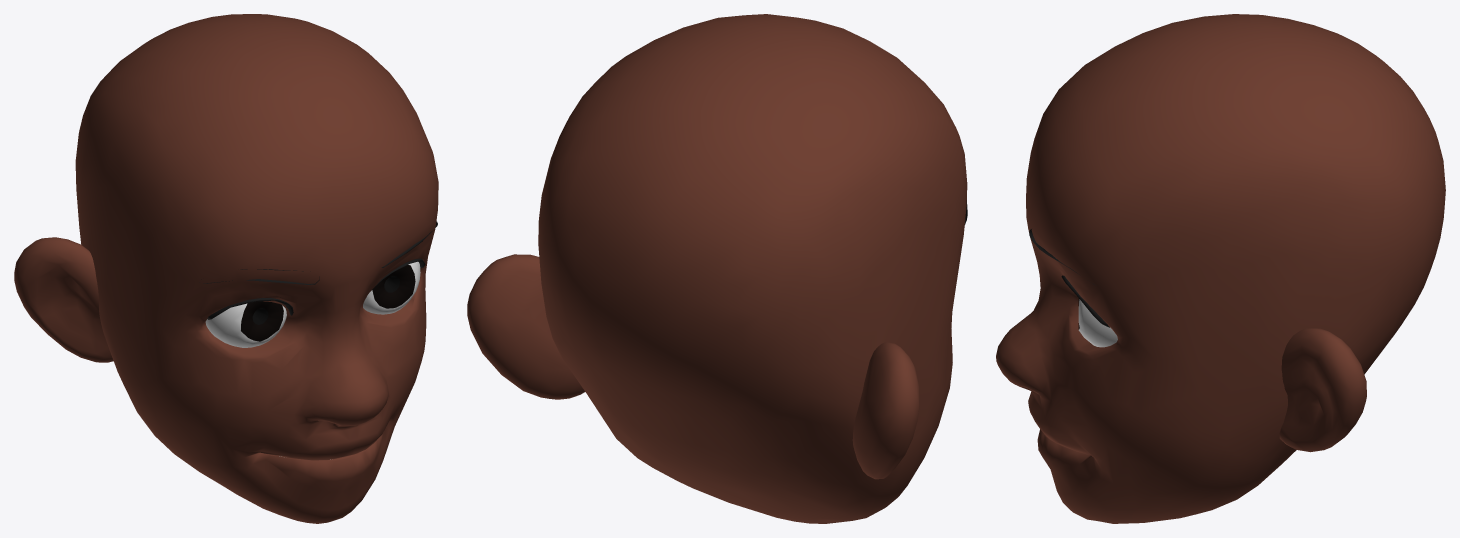
The picture shows the model from 3 angles, left to right: view 1: azimuth 30°, elevation 25°; view 2: azimuth 150°, elevation 25°; view 3: azimuth 270°, elevation 25°; orthographic projection. The views are drawn at different scales.
Visible parts, largest first — view 1: skin.001, eyes.003, eyes.002; view 2: skin.001; view 3: skin.001, eyes.002.
Part boxes in pixels (x1,y1,x2,y2): skin.001: [14, 14, 438, 523]; eyes.003: [205, 301, 286, 347]; eyes.002: [363, 261, 420, 314]; skin.001: [467, 14, 967, 523]; skin.001: [996, 14, 1445, 523]; eyes.002: [1078, 298, 1117, 347].
Bounding box in the file's own units: 1.81 × 2 × 1.7.
